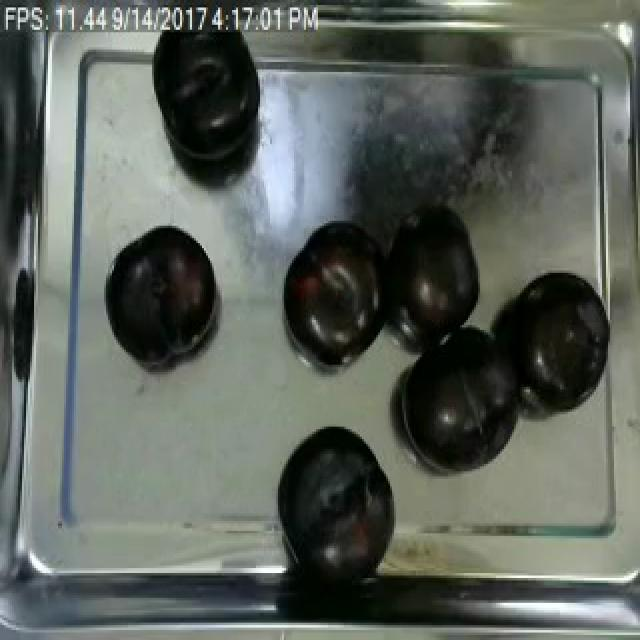Fruit: (398, 318, 530, 467), (272, 416, 396, 566), (148, 27, 266, 174), (274, 213, 388, 365), (100, 220, 220, 364), (504, 268, 610, 409), (382, 208, 486, 342)
